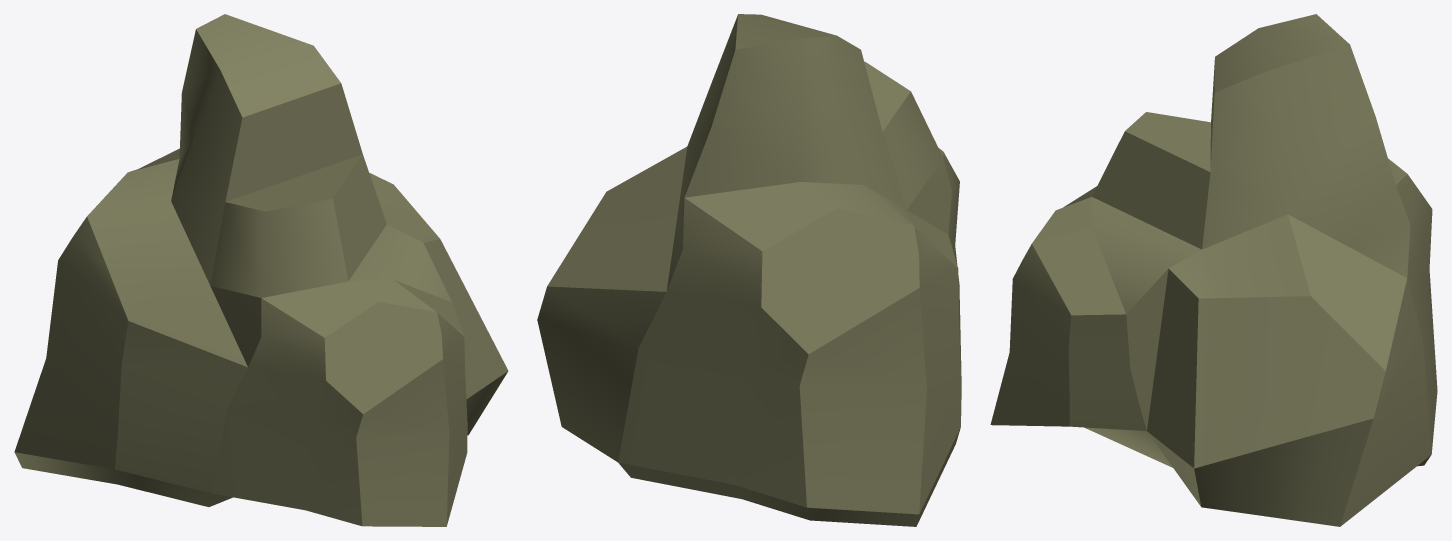
Rendered from Rock_2.fbx.
3 views of the same model, side by side, from view 1: azimuth 30°, elevation 25°; view 2: azimuth 150°, elevation 25°; view 3: azimuth 270°, elevation 25° (orthographic). The views are drawn at different scales.
Visible parts, largest first — view 1: Rock_2; view 2: Rock_2; view 3: Rock_2.
Boxes of the visible parts, <box> form: Rock_2: <box>14,14,508,526</box>; Rock_2: <box>537,14,961,526</box>; Rock_2: <box>990,14,1437,526</box>.
Size of the model in its own units: 0.2286 by 0.244 by 0.2333.
